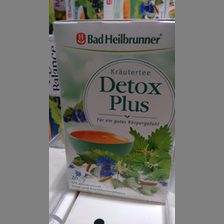tea: (52, 18, 174, 205)
